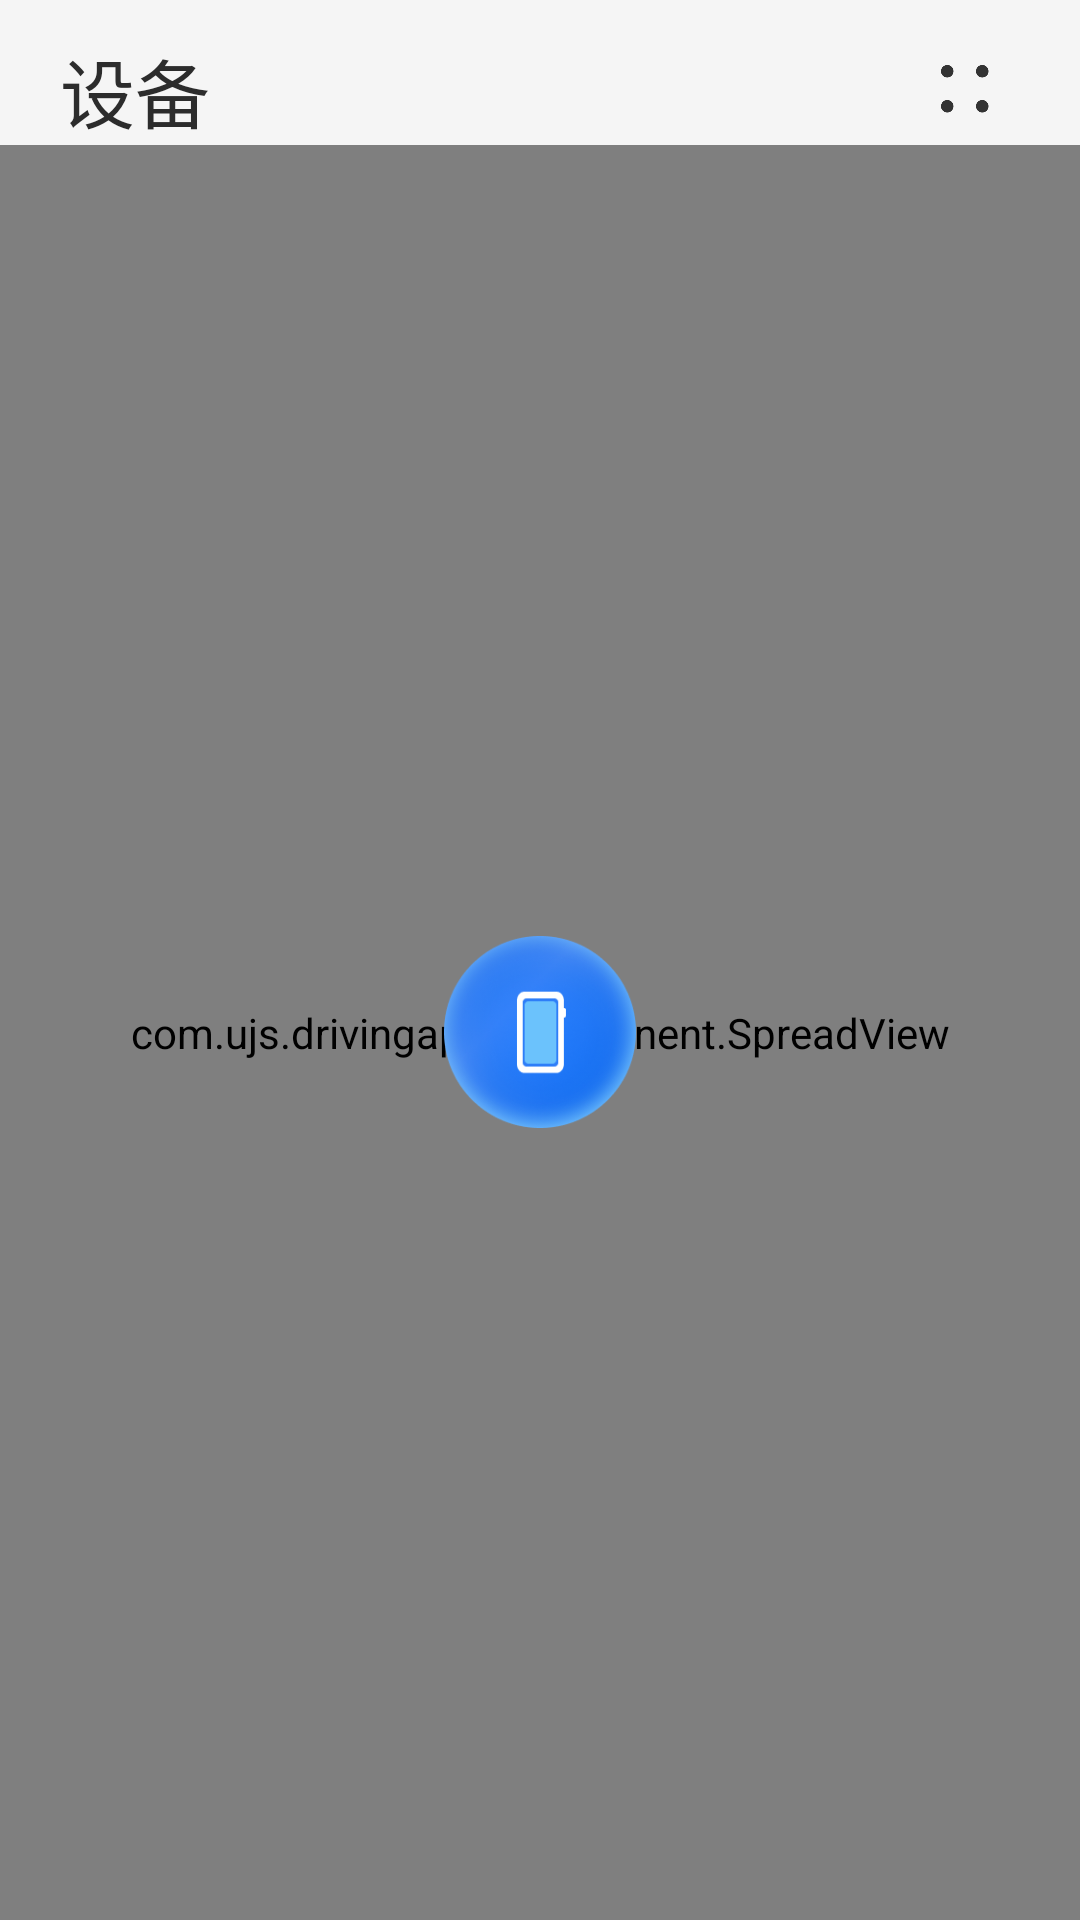

Icon click points for this 1080×1920 phone screenshot, format (x,y):
devices: (540,1032)
more: (965,89)
